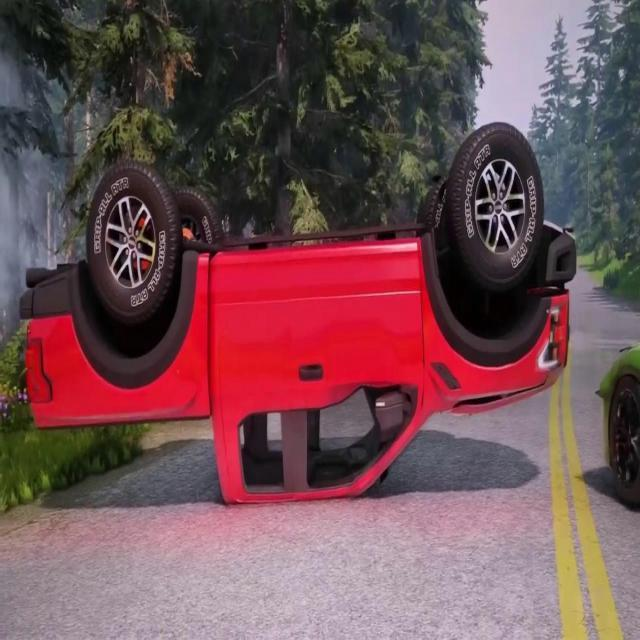severe: (15, 118, 581, 508)
